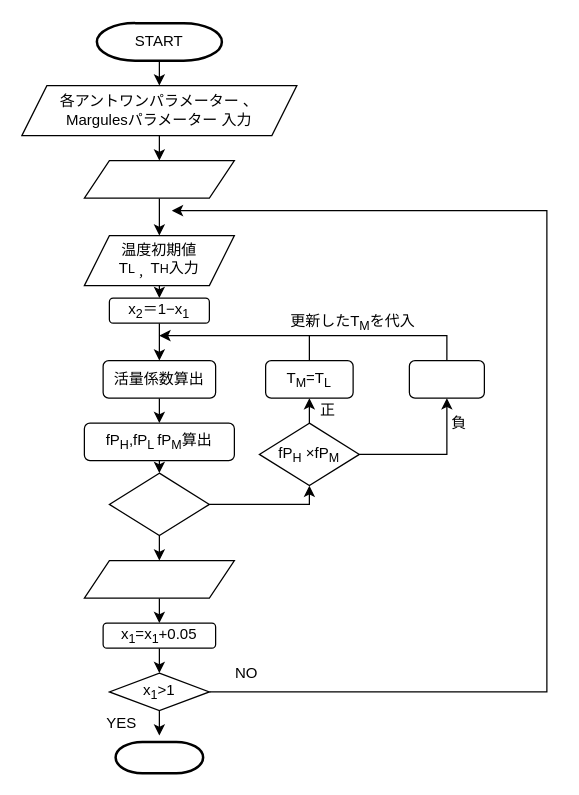
This 579x795 diagram has some shape labels left out. The shapes that lost their labels are listed below. From the top down, each one's centre as x and y in pixels, then its label:
the point at 158,178: 初期値 x 1 =0
the point at 446,378: T M =T H
the point at 158,504: |fP M |<10 -6
the point at 158,578: 沸点・組成等出力
the point at 159,757: END
